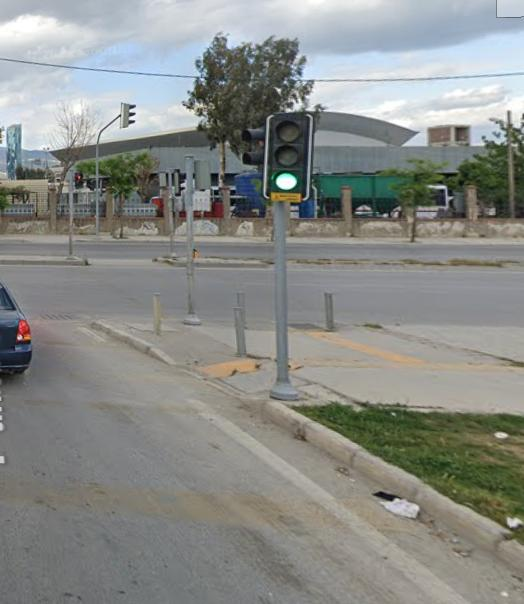greenlight: (267, 114, 304, 189)
